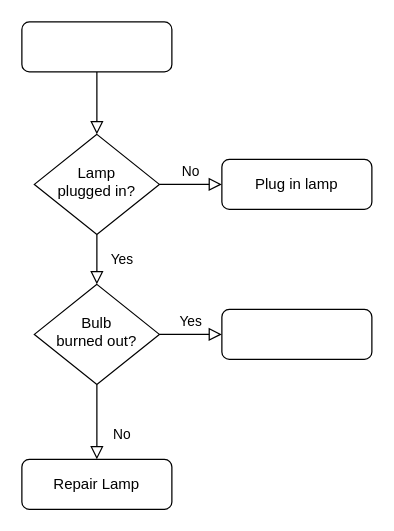
Some shapes in this 394 by 531 pixel diagram are drawn without their labels. Each missing label, with the centre of its shape:
"Replace Bulb" belongs at (x=296, y=333).
"执行代码" belongs at (x=96, y=46).
